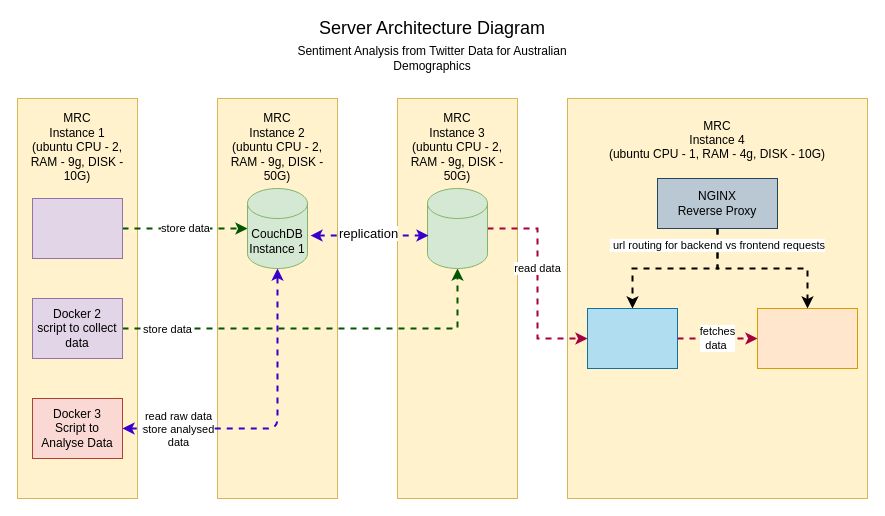
The diagram is 885 pixels wide and 516 high, and some of its shapes have lost their labels. The centre of each missing label's shape, as x and y in pixels:
CouchDB Instance 2: the point at 457,228
Docker 1 host backend REST APIs (Flask): the point at 632,338
Docker 1 script to collect data: the point at 77,228
Docker 2 host UI (D3.js, Leaflet.js, Node http-server): the point at 807,338
